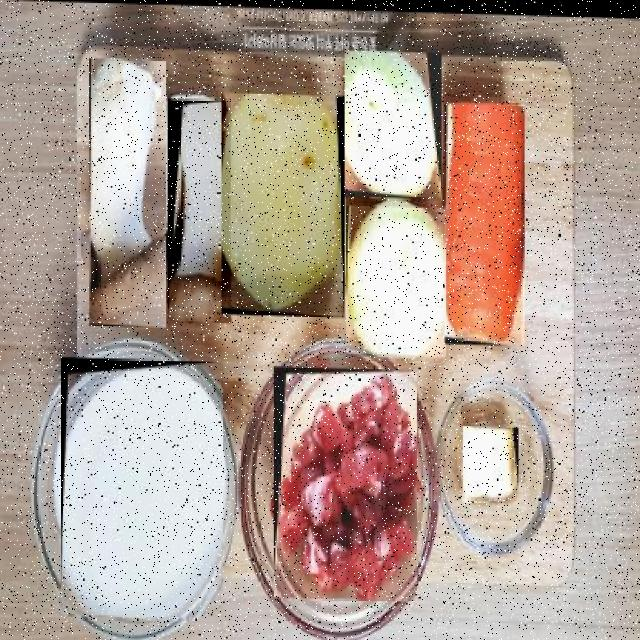Beef: (272, 363, 417, 599)
Butter: (459, 422, 518, 502)
Carrot: (443, 98, 525, 342)
Milk: (59, 354, 223, 618)
Mushroom: (88, 56, 166, 327), (166, 96, 231, 322)
Onion: (345, 202, 446, 356), (343, 47, 442, 196)
Potato: (220, 90, 345, 316)
